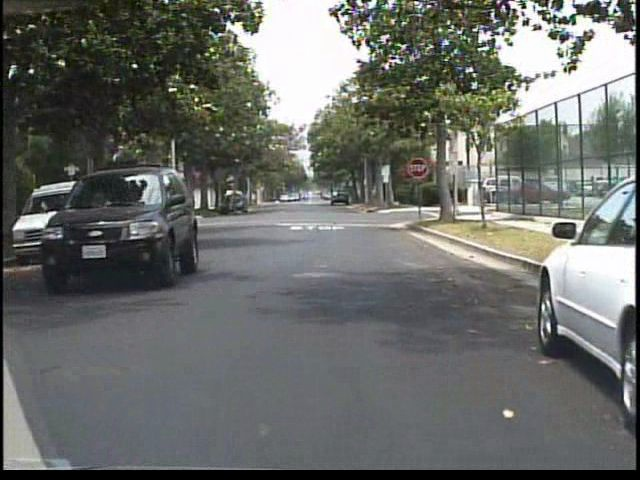person: (227, 180, 248, 221)
